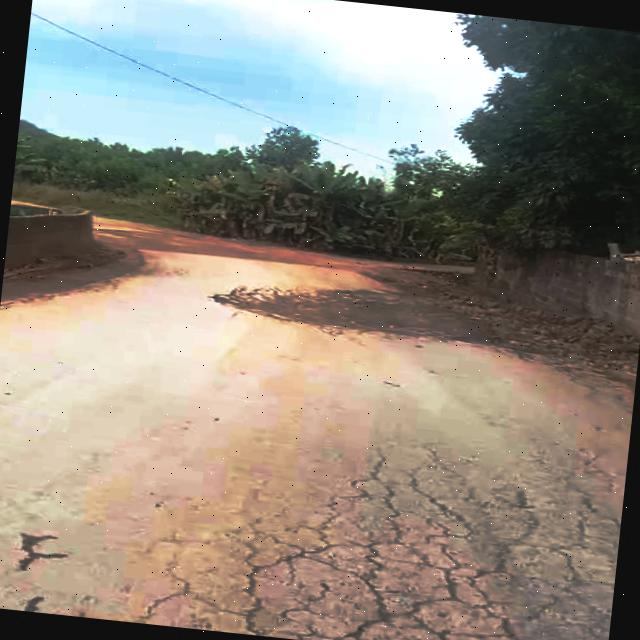pothole: (214, 268, 508, 347)
